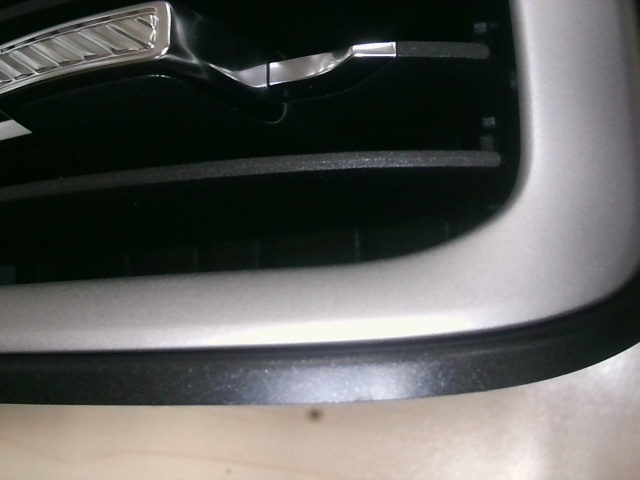NG: (341, 370, 427, 413)
